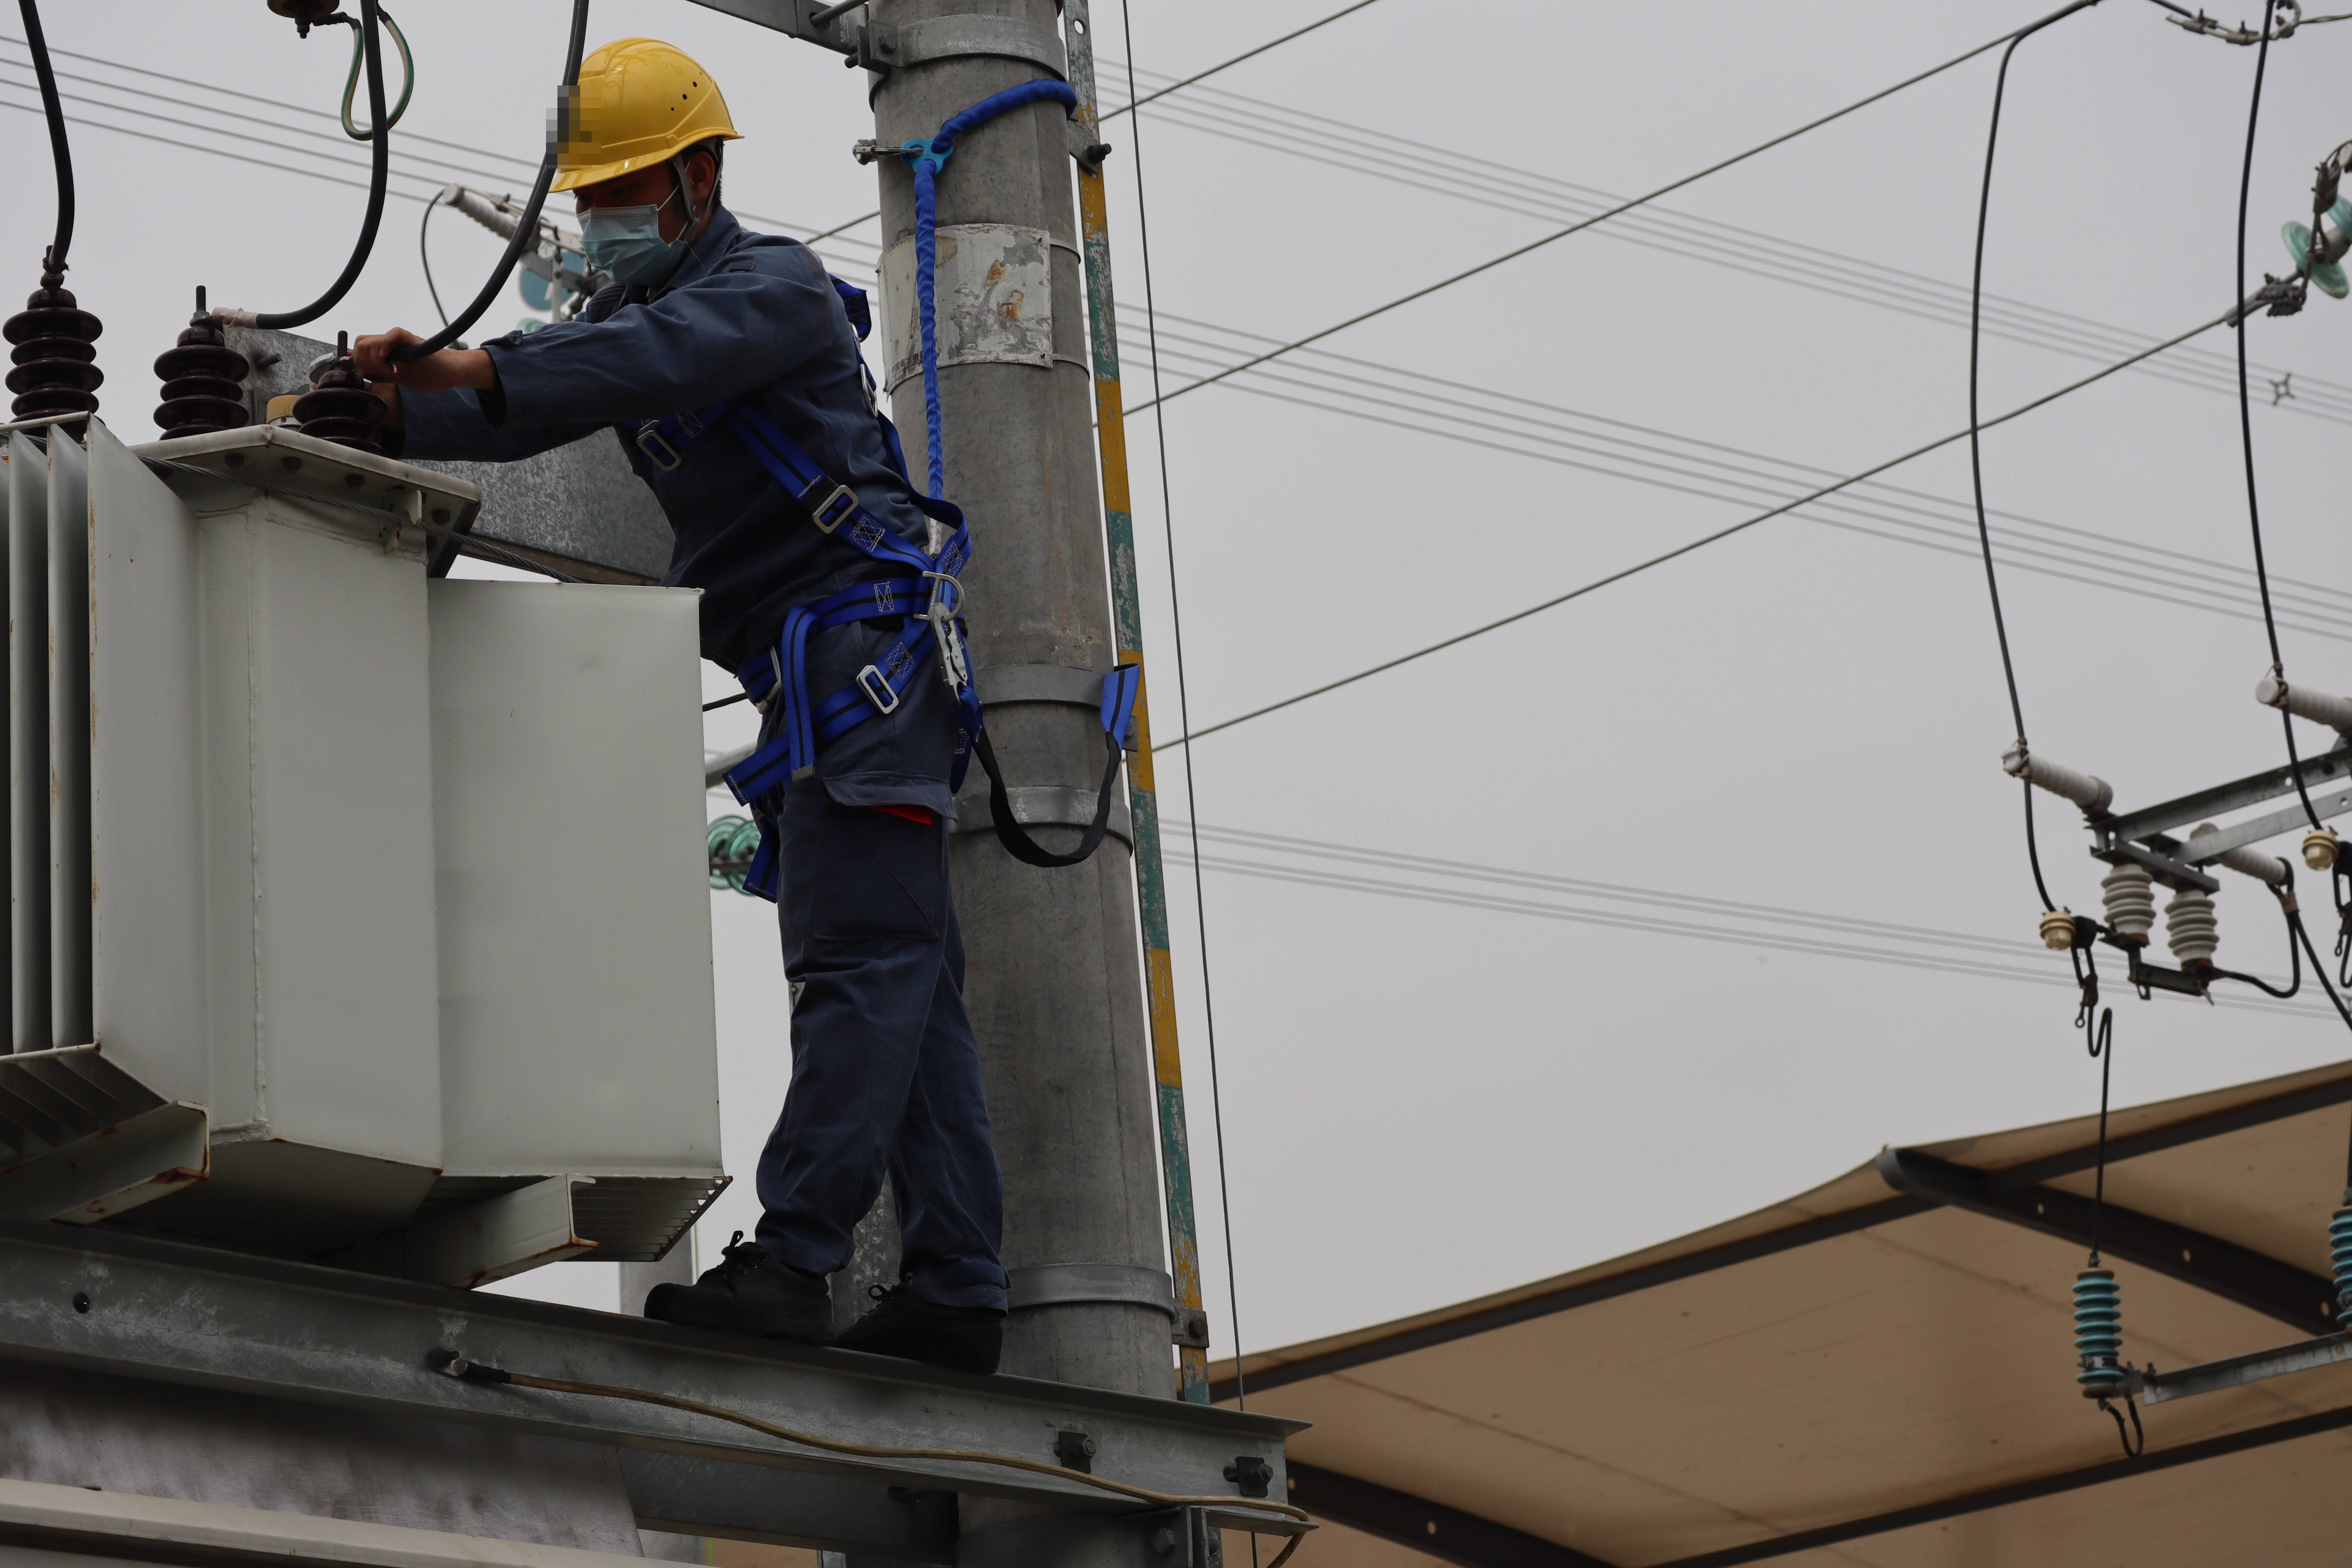downsuit: (788, 683, 1006, 1279)
upsuit: (621, 273, 945, 674)
